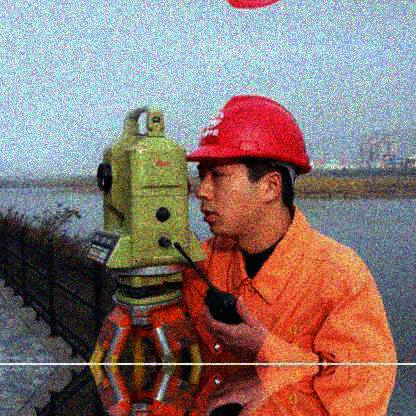helmet: (187, 96, 312, 244)
